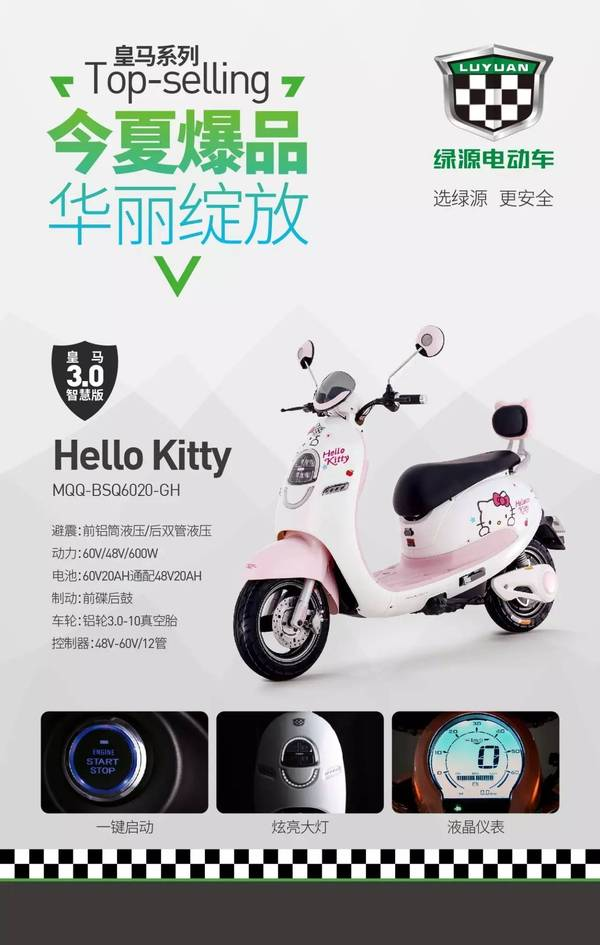电动车: (213, 324, 595, 690)
